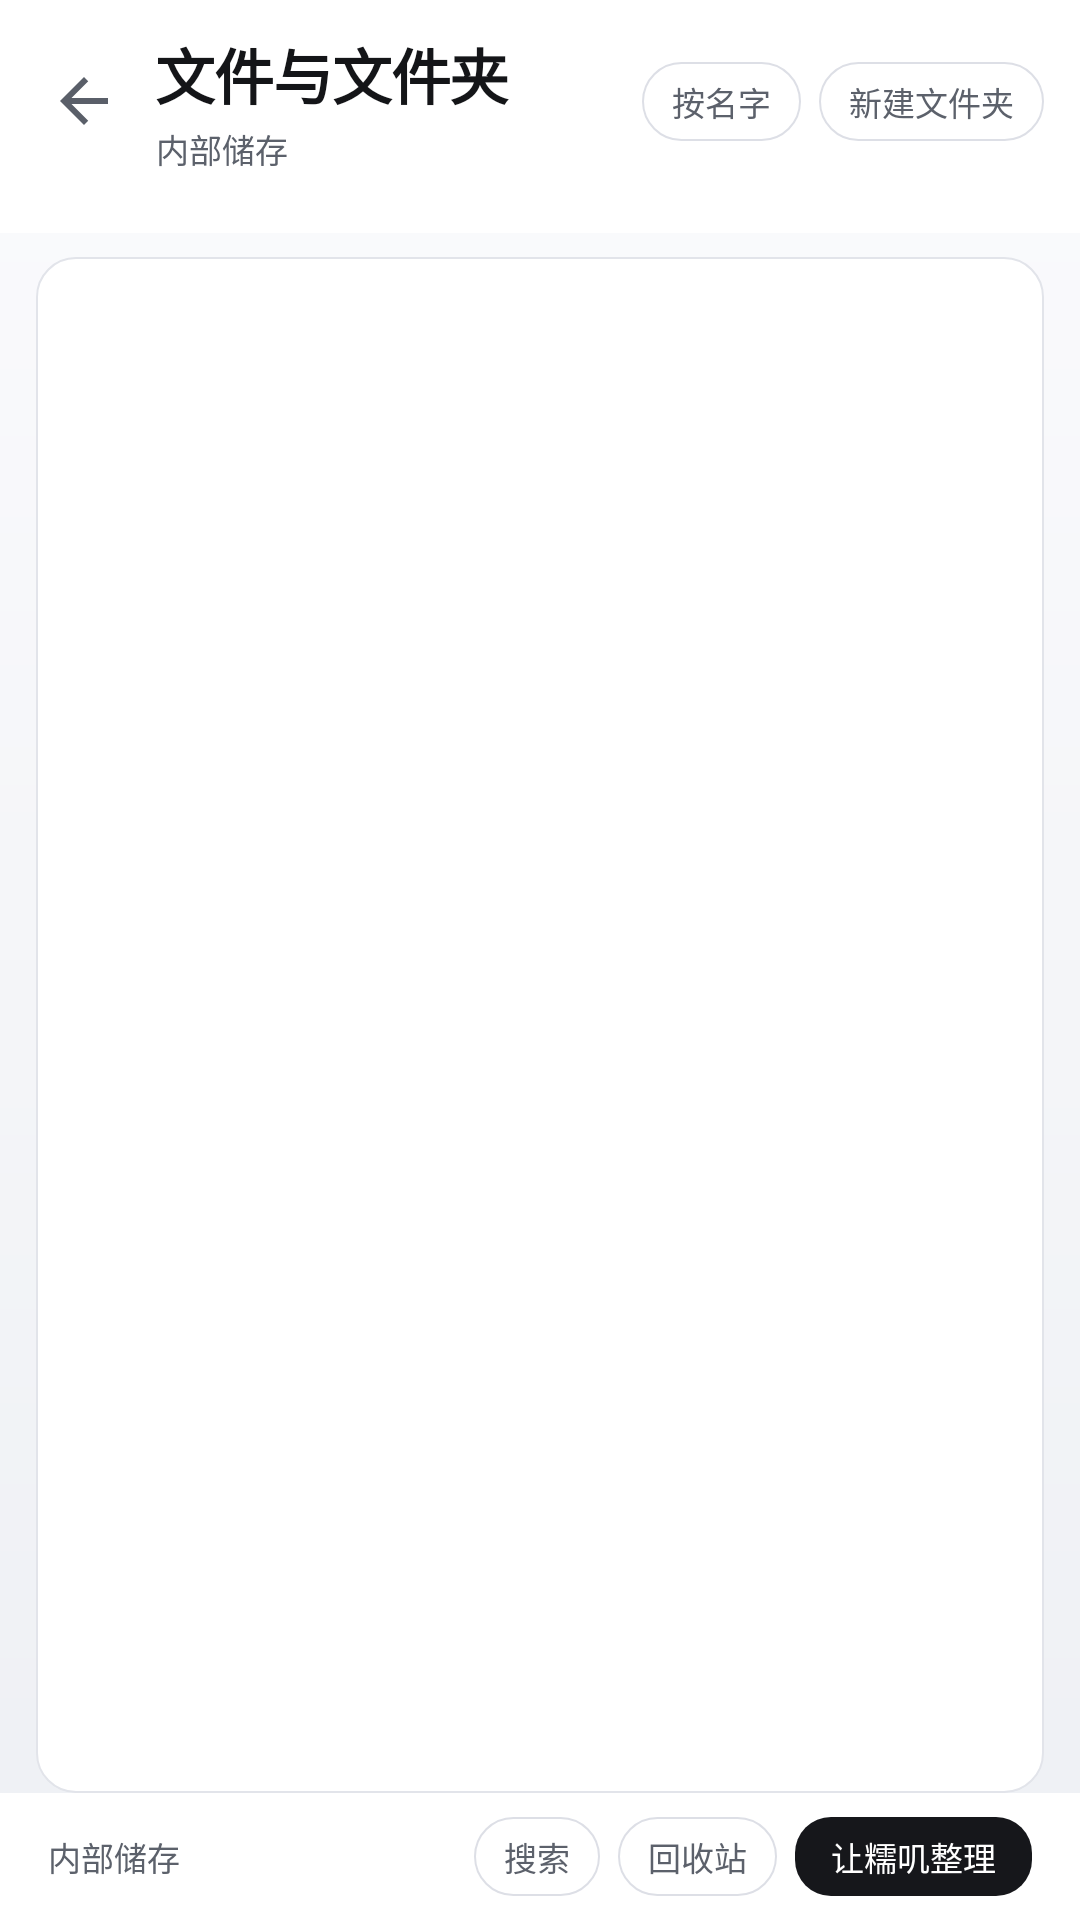

Icons on this 1080 x 1920 Android screen, each with the point to tap as [x,y]:
返回: [84,101]
